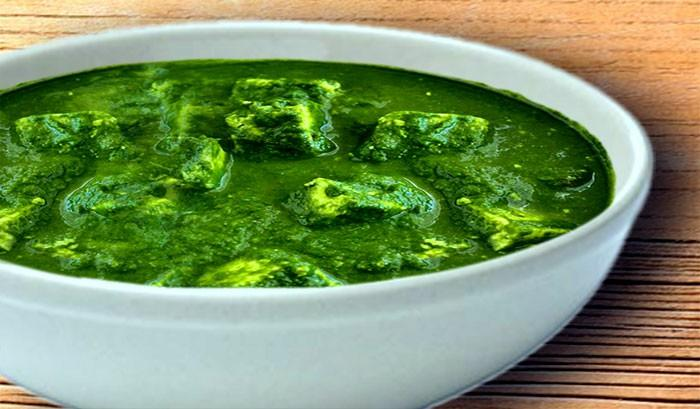PalakPaneer: (0, 56, 613, 289)
